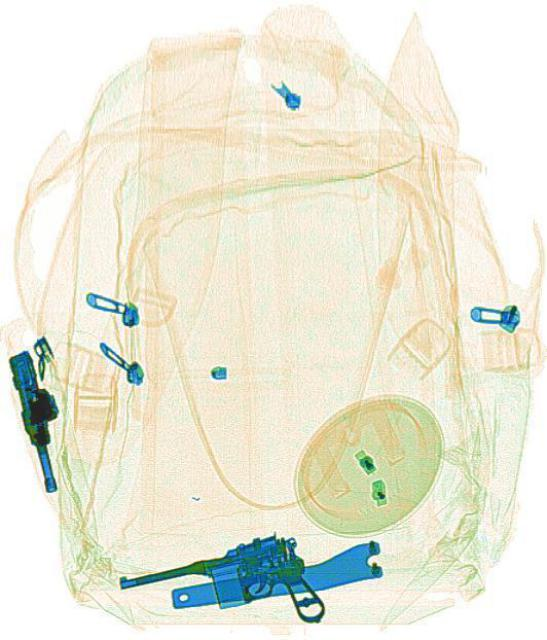Gun: (137, 526, 314, 638), (4, 345, 76, 493)
